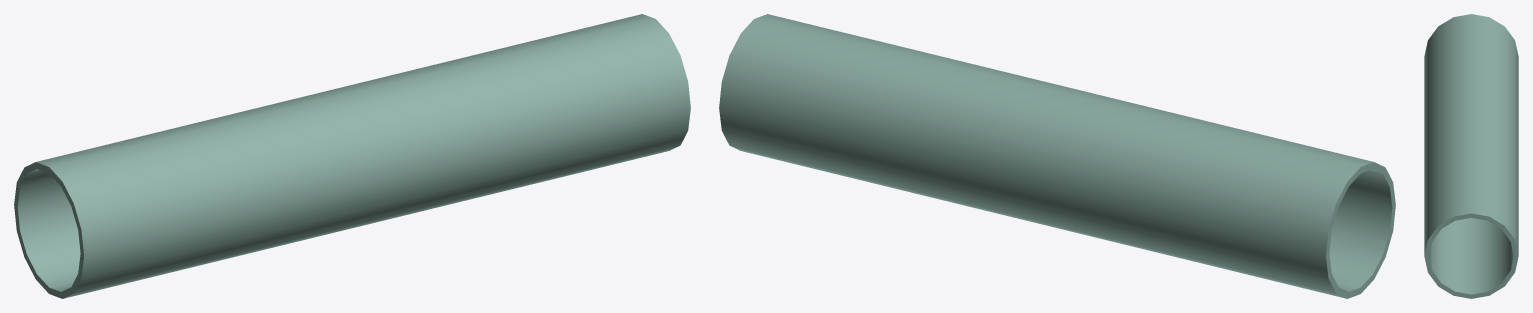
Rendered from PipeLarge_Hollow_Straight_L05.fbx.
The picture shows the model from 3 angles, left to right: view 1: azimuth 30°, elevation 25°; view 2: azimuth 150°, elevation 25°; view 3: azimuth 270°, elevation 25°; orthographic projection. The views are drawn at different scales.
Visible parts, largest first — view 1: PipeLarge_Hollow_Straight_L05.001; view 2: PipeLarge_Hollow_Straight_L05.001; view 3: PipeLarge_Hollow_Straight_L05.001.
Boxes of the visible parts, <box> form: PipeLarge_Hollow_Straight_L05.001: <box>14,14,690,298</box>; PipeLarge_Hollow_Straight_L05.001: <box>719,14,1395,298</box>; PipeLarge_Hollow_Straight_L05.001: <box>1424,14,1518,298</box>.
Size of the model in its own units: 1 by 0.2 by 0.2.
